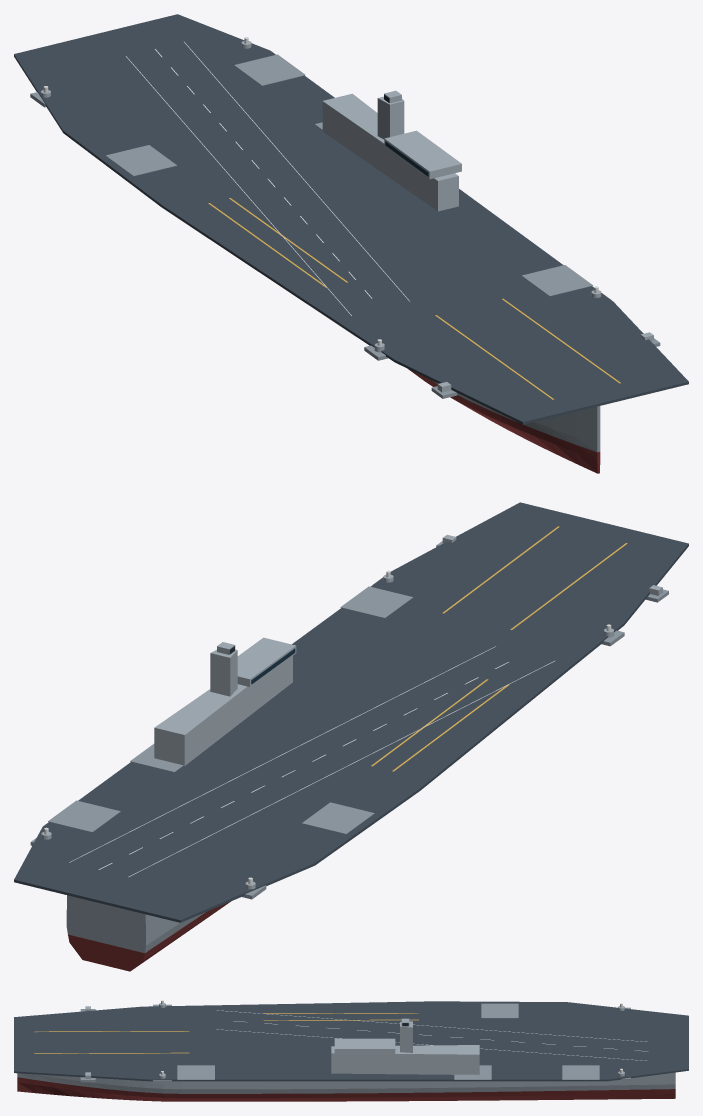
File: ran_cvn_southern_cross_2002.obj
3 views of the same model, one above another, from view 1: azimuth 30°, elevation 25°; view 2: azimuth 150°, elevation 25°; view 3: azimuth 270°, elevation 25° (orthographic). The views are drawn at different scales.
Visible parts, largest first — view 1: FlightDeck, Island, UnderwaterHull, Hull, Bridge, Elevator_1, Elevator_3, Elevator_4, IntegratedMast; view 2: FlightDeck, Island, Hull, UnderwaterHull, Bridge, Elevator_1, Elevator_4, Elevator_3, IntegratedMast; view 3: FlightDeck, Hull, UnderwaterHull, Island, Bridge, Elevator_4, Elevator_1, Elevator_3, IntegratedMast, Elevator_2, LandingEdge_-1, LandingEdge_1 (+1 smaller).
Part boxes in pixels (bbox=[...]): FlightDeck: bbox=[14, 14, 688, 424]; Island: bbox=[322, 93, 458, 211]; UnderwaterHull: bbox=[408, 369, 600, 473]; Hull: bbox=[433, 381, 600, 452]; Bridge: bbox=[384, 130, 461, 179]; Elevator_1: bbox=[521, 265, 592, 296]; Elevator_3: bbox=[234, 54, 305, 85]; Elevator_4: bbox=[105, 145, 176, 176]; IntegratedMast: bbox=[377, 96, 404, 139]; FlightDeck: bbox=[14, 502, 688, 922]; Island: bbox=[154, 656, 292, 765]; Hull: bbox=[66, 895, 205, 953]; UnderwaterHull: bbox=[68, 901, 230, 971]; Bridge: bbox=[237, 637, 296, 686]; Elevator_1: bbox=[340, 586, 413, 618]; Elevator_4: bbox=[301, 802, 374, 834]; Elevator_3: bbox=[48, 800, 120, 832]; IntegratedMast: bbox=[210, 649, 237, 696]; FlightDeck: bbox=[14, 1001, 688, 1081]; Hull: bbox=[17, 1072, 675, 1093]; UnderwaterHull: bbox=[17, 1077, 675, 1101]; Island: bbox=[331, 1045, 479, 1074]; Bridge: bbox=[334, 1038, 395, 1054]; Elevator_4: bbox=[481, 1003, 518, 1018]; Elevator_1: bbox=[177, 1065, 214, 1079]; Elevator_3: bbox=[562, 1065, 599, 1079]; IntegratedMast: bbox=[400, 1021, 412, 1052]; Elevator_2: bbox=[454, 1065, 491, 1079]; LandingEdge_-1: bbox=[216, 1010, 647, 1041]; LandingEdge_1: bbox=[216, 1029, 646, 1060].
Bounding box in the file's own units: 99.45 × 58.2 × 360.
